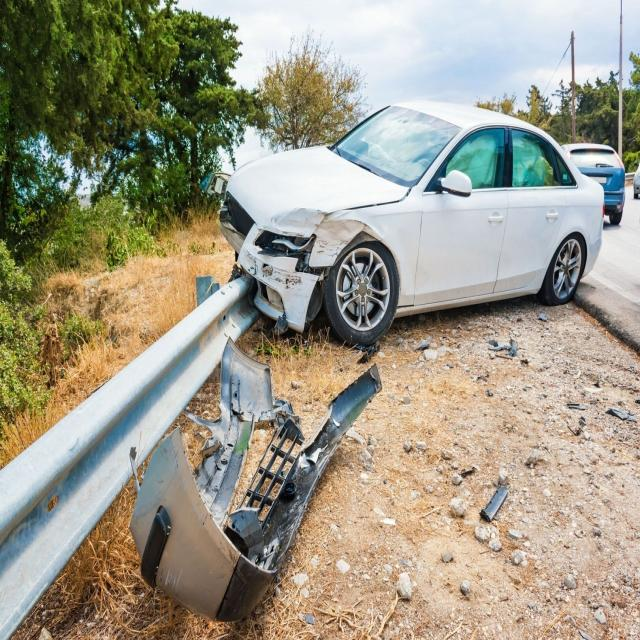crushed car: (206, 102, 604, 344), (130, 340, 381, 621)
